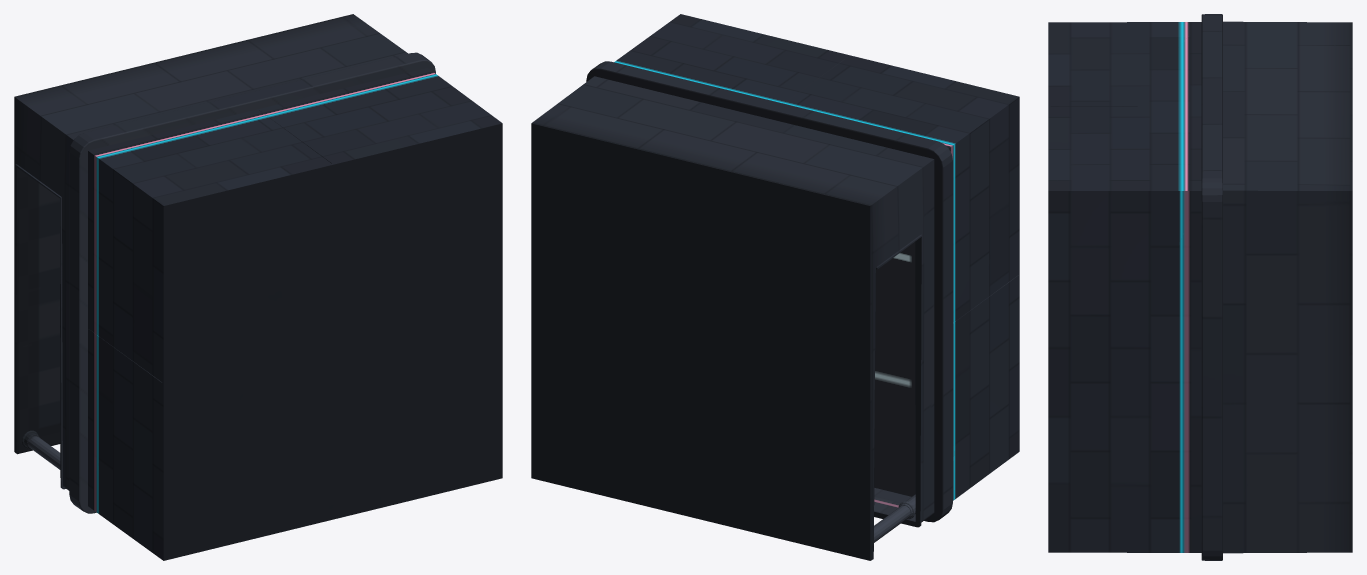
The model's file is booth.obj.
3 renders of one model, left to right at view 1: azimuth 30°, elevation 25°; view 2: azimuth 150°, elevation 25°; view 3: azimuth 270°, elevation 25°, orthographic.
Parts seen in each view (by area): view 1: vrchat_legends_booth_textured_Clone_; view 2: vrchat_legends_booth_textured_Clone_; view 3: vrchat_legends_booth_textured_Clone_.
Boxes of the visible parts, x1,y1,x2,y2 form: vrchat_legends_booth_textured_Clone_: (14, 14, 502, 560); vrchat_legends_booth_textured_Clone_: (531, 14, 1019, 560); vrchat_legends_booth_textured_Clone_: (1048, 14, 1352, 560).
Size of the model in its own units: 0.0213 by 0.0213 by 0.0154.
